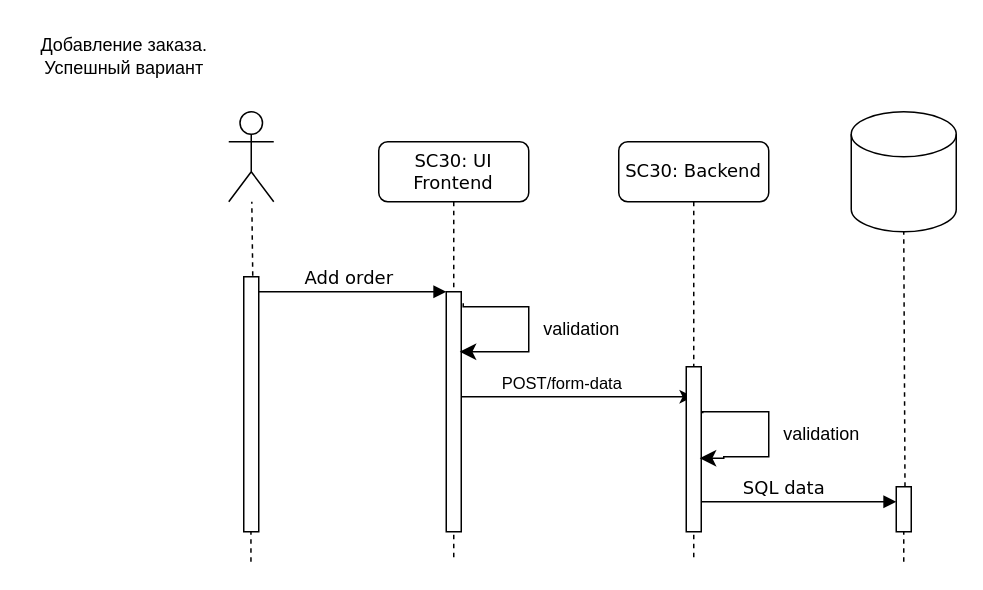
Image size: 983x590. Some labels were removed from this diagram. Here are the shapes that lost their labels. From the top down, the centre of each, then its label:
(x=250, y=156): Actor
(x=903, y=171): DB mysql or postgresql
